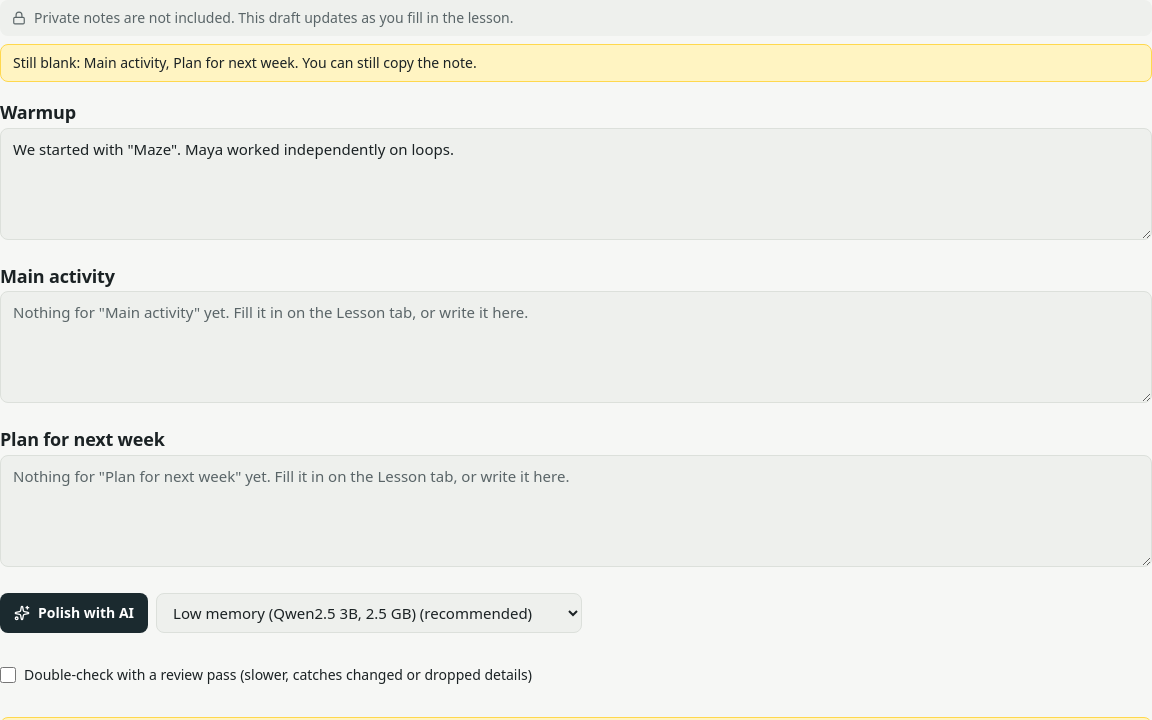
Test: NotePanel › "Keep mine" dismisses the warning without changing the text
Type "Mine." into the text box labelled "Main activity".
click(576, 347); type("Mine.")  # box [0, 291, 1151, 403]
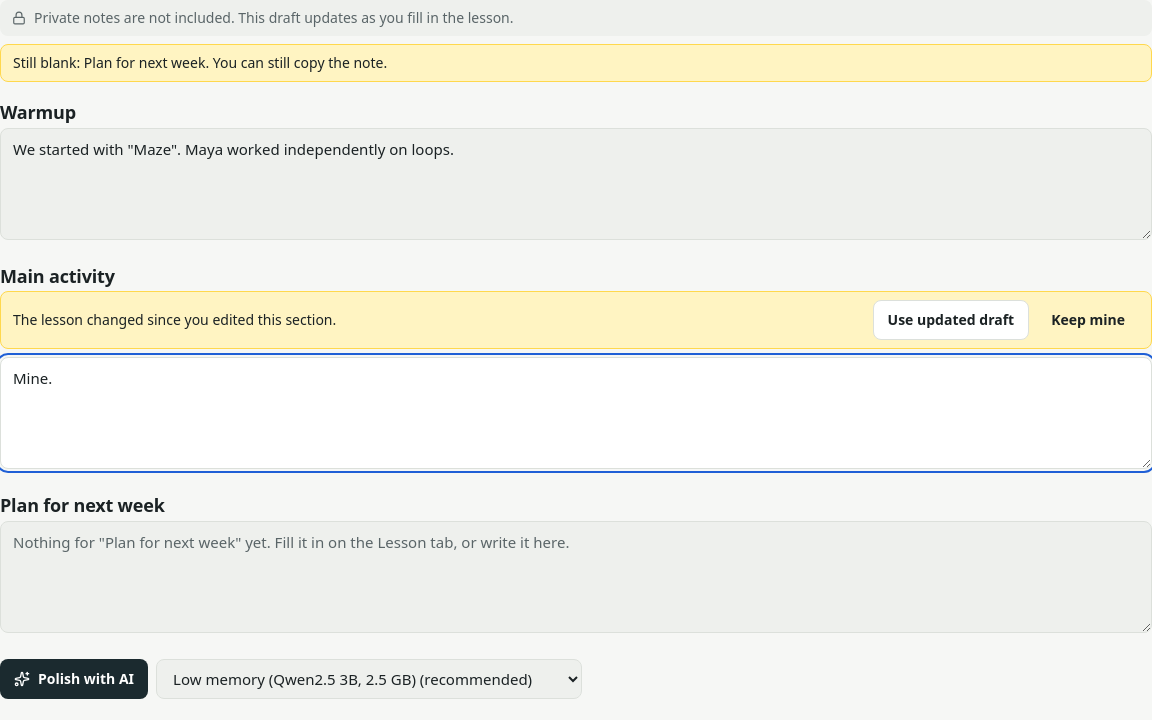
Click the button "Keep mine".
click(1088, 320)  # box [1037, 300, 1139, 340]
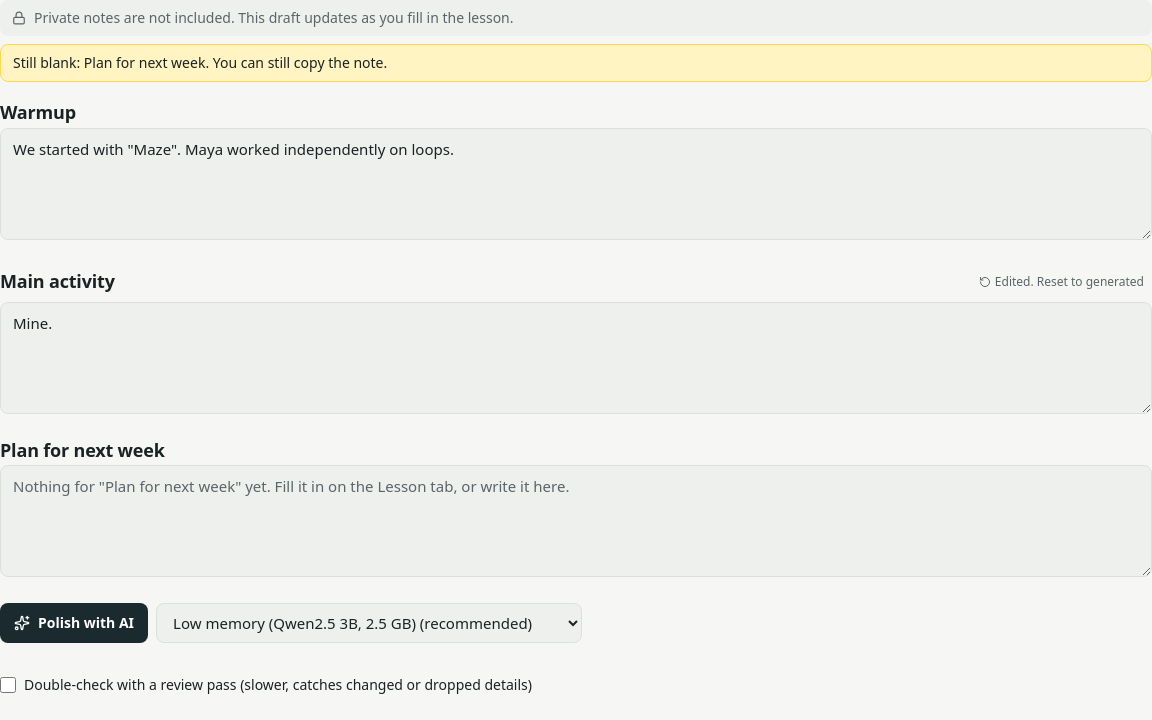
Check: the text "The lesson changed since you edited" is gone
